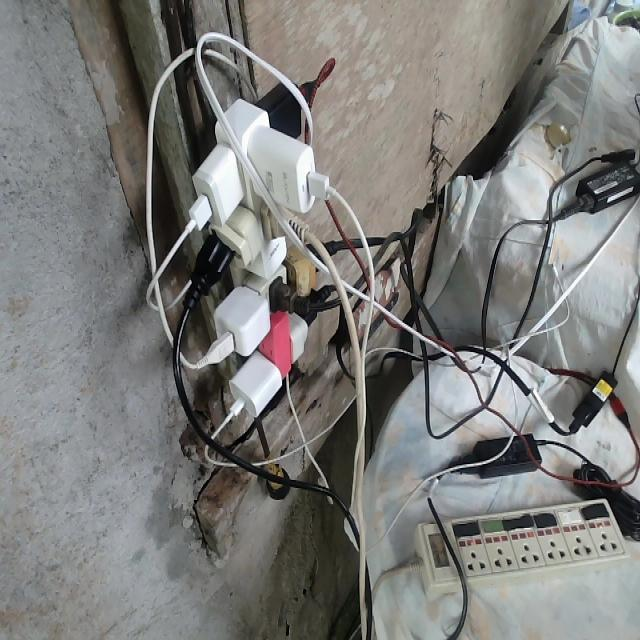-: (178, 76, 337, 419)
